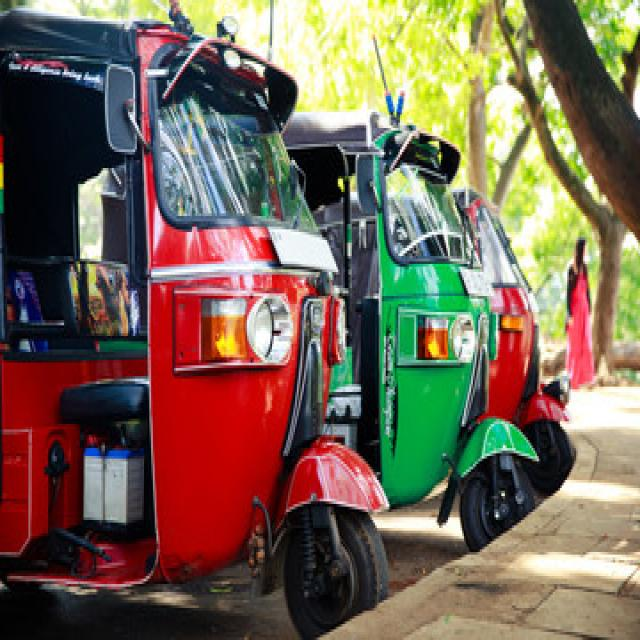person: (565, 237, 592, 387)
three wheeler: (0, 11, 386, 635), (103, 112, 553, 549), (453, 187, 574, 493)
